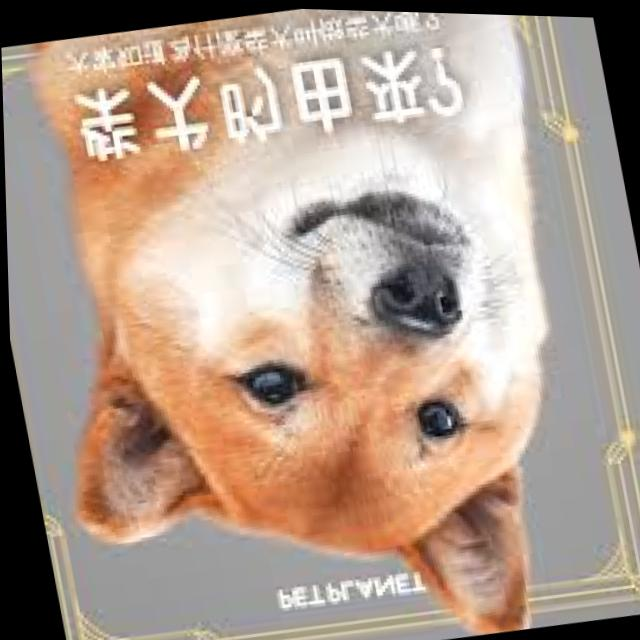Shiba-Inu: (1, 1, 631, 640)
